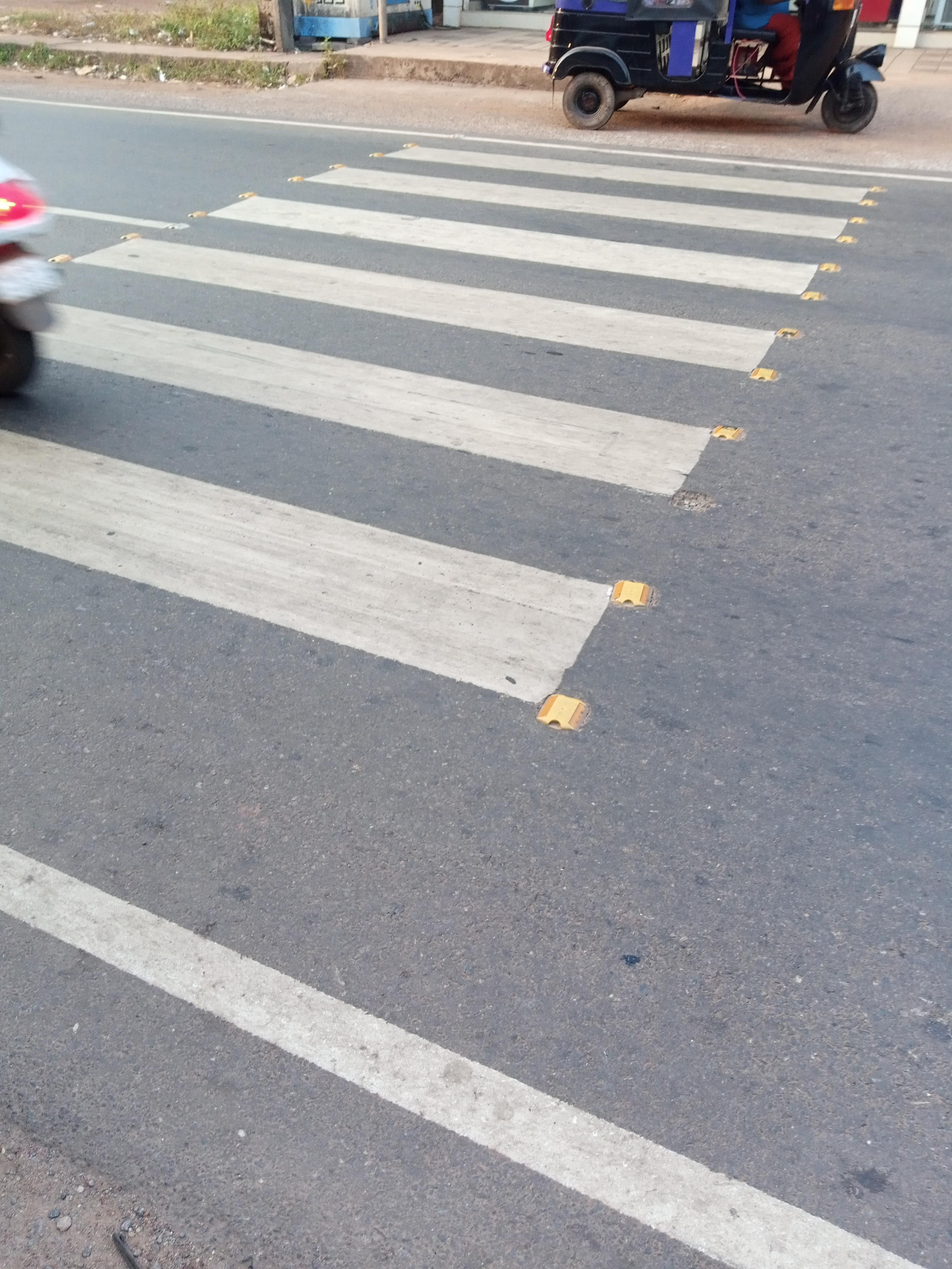crosswalk: (0, 133, 882, 718)
